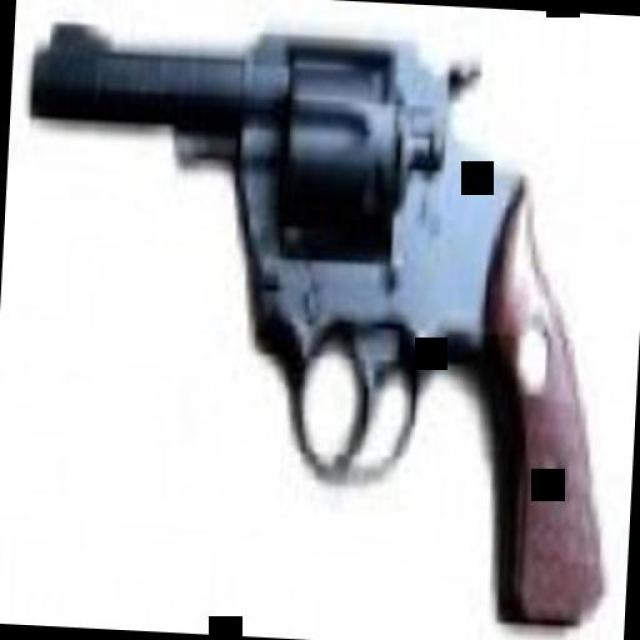gun: (4, 15, 634, 631)
